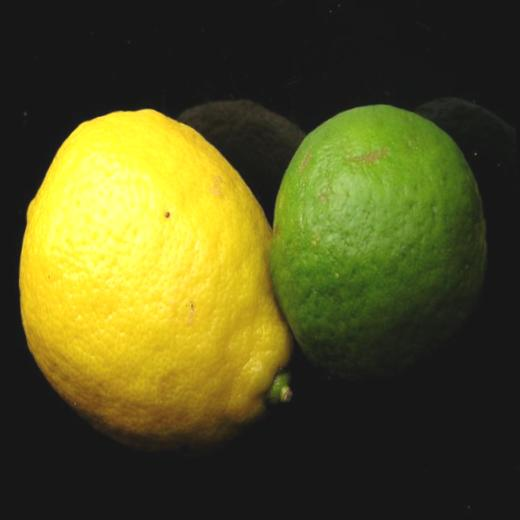Grape: (10, 107, 298, 438), (262, 91, 492, 368)
